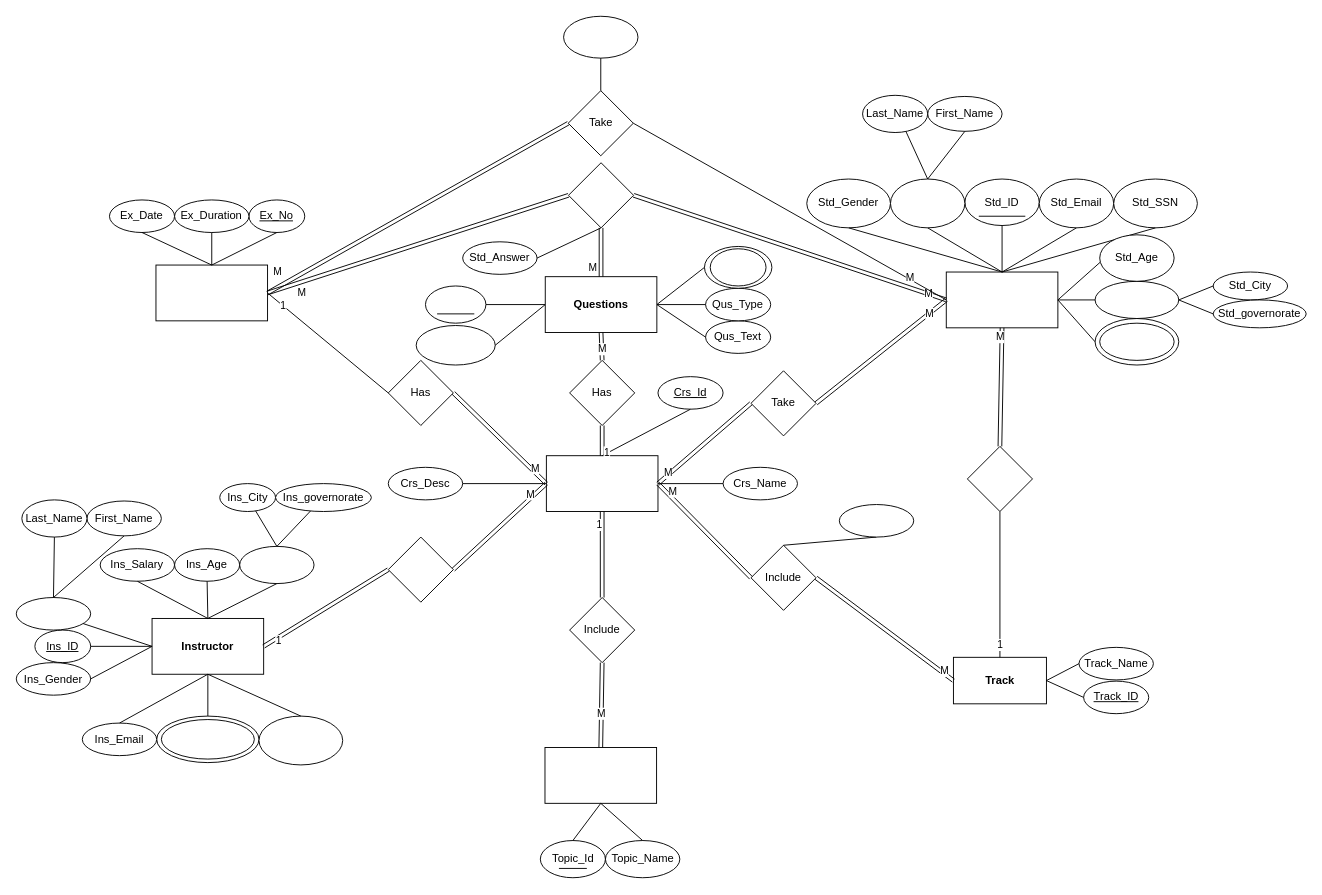
Some shapes in this 1322 by 895 pixel diagram are drawn without their labels. Here are the shapes that lost their labels. From the top down, the centre of each, then its label:
the point at 600,36: Grade
the point at 601,195: Do
the point at 927,203: Std_Name
the point at 737,267: Choice
the point at 211,292: Exam
the point at 455,304: Qus_No
the point at 1001,299: Student
the point at 1136,299: Std_Address
the point at 455,345: Correct Answer
the point at 1136,341: Std_PhoneNo
the point at 601,483: Course
the point at 999,478: Enroll
the point at 876,520: Start_date
the point at 276,564: Ins_Address
the point at 420,569: Teach
the point at 53,613: Ins_Name
the point at 207,739: Ins_PhoneNum
the point at 300,740: Int_SSN
the point at 600,775: Topic
